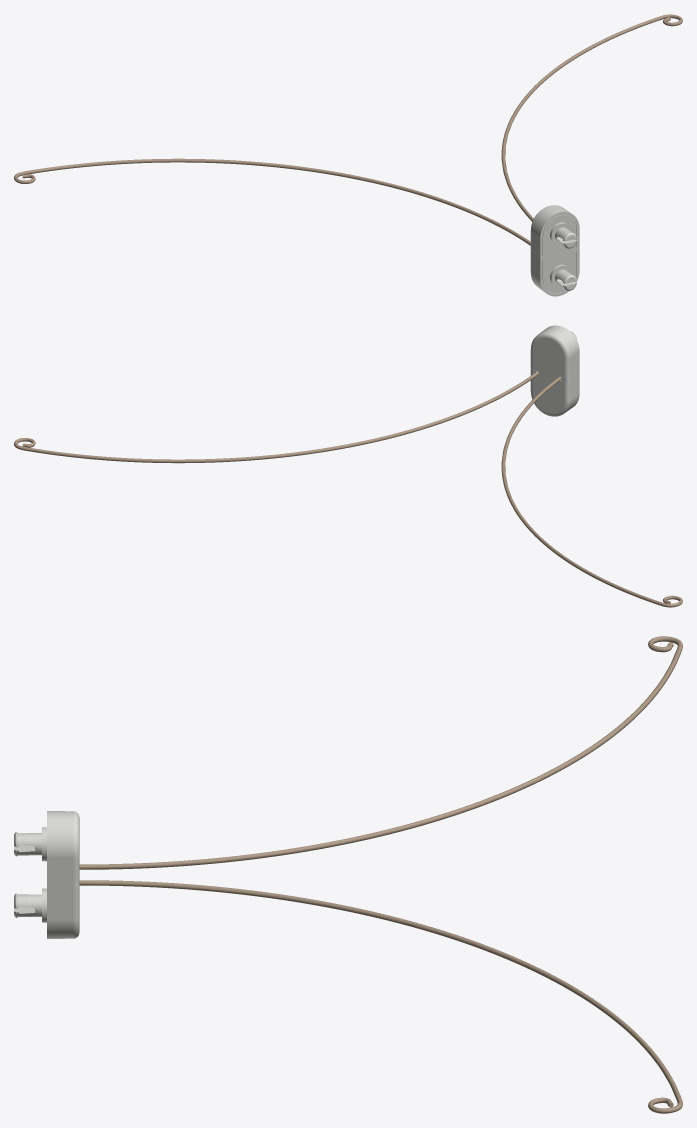
The picture shows the model from 3 angles, top to bottom: view 1: azimuth 30°, elevation 25°; view 2: azimuth 150°, elevation 25°; view 3: azimuth 270°, elevation 25°; orthographic projection. The views are drawn at different scales.
Visible parts, largest first — view 1: NAUO2, NAUO1, NAUO3; view 2: NAUO2, NAUO3; view 3: NAUO2, NAUO3, NAUO1.
Boxes of the visible parts, x1=… form: NAUO2: x1=14, y1=14, x2=682, y2=245; NAUO1: x1=530, y1=214, x2=579, y2=293; NAUO3: x1=530, y1=205, x2=579, y2=296; NAUO2: x1=14, y1=371, x2=682, y2=607; NAUO3: x1=530, y1=325, x2=579, y2=416; NAUO2: x1=79, y1=636, x2=682, y2=1113; NAUO3: x1=47, y1=811, x2=79, y2=938; NAUO1: x1=14, y1=827, x2=79, y2=922.
Bounding box in the file's own units: 0.2096 × 0.0251 × 0.1249.
